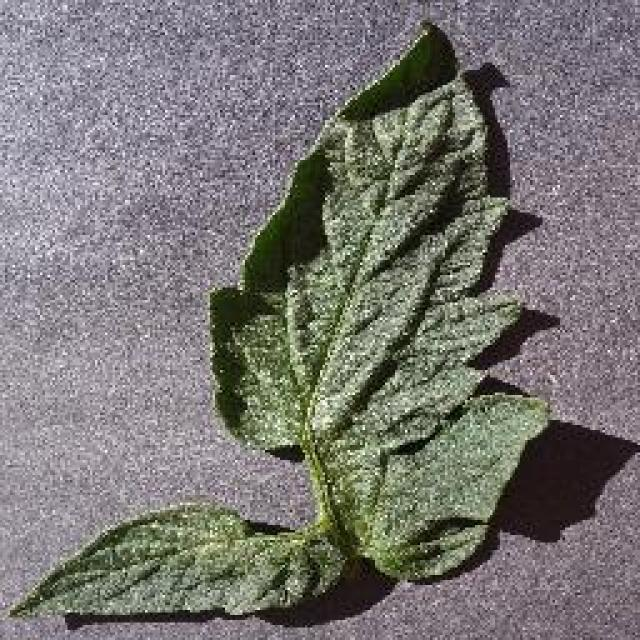Tomato___healthy: (4, 10, 548, 617)
